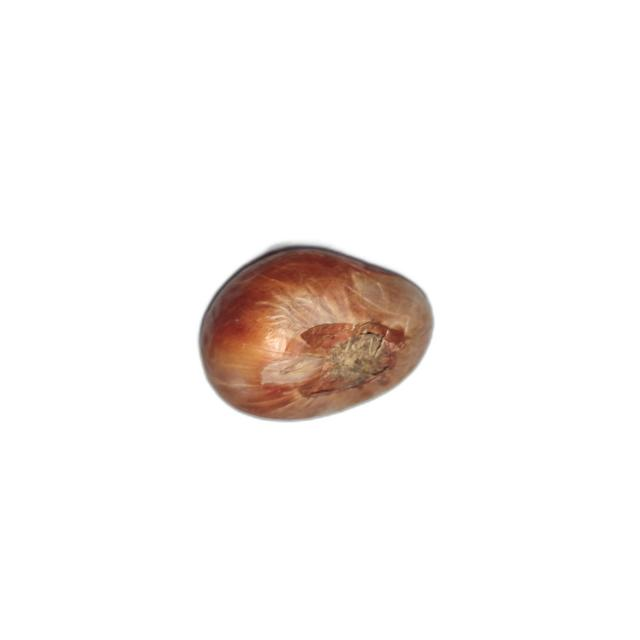onion: (197, 244, 437, 423)
